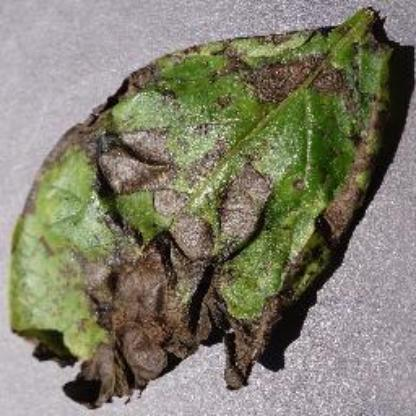Early-Blight: (7, 5, 404, 407)
